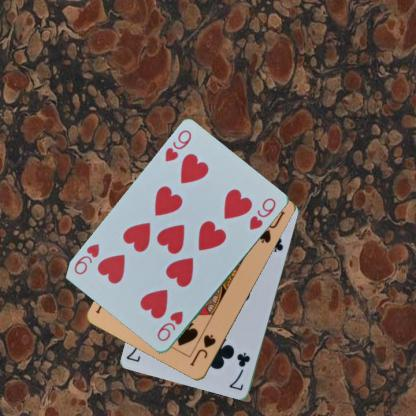7c: (226, 350, 252, 392)
9h: (162, 127, 193, 164), (154, 309, 185, 343)
Js: (187, 332, 217, 368)
